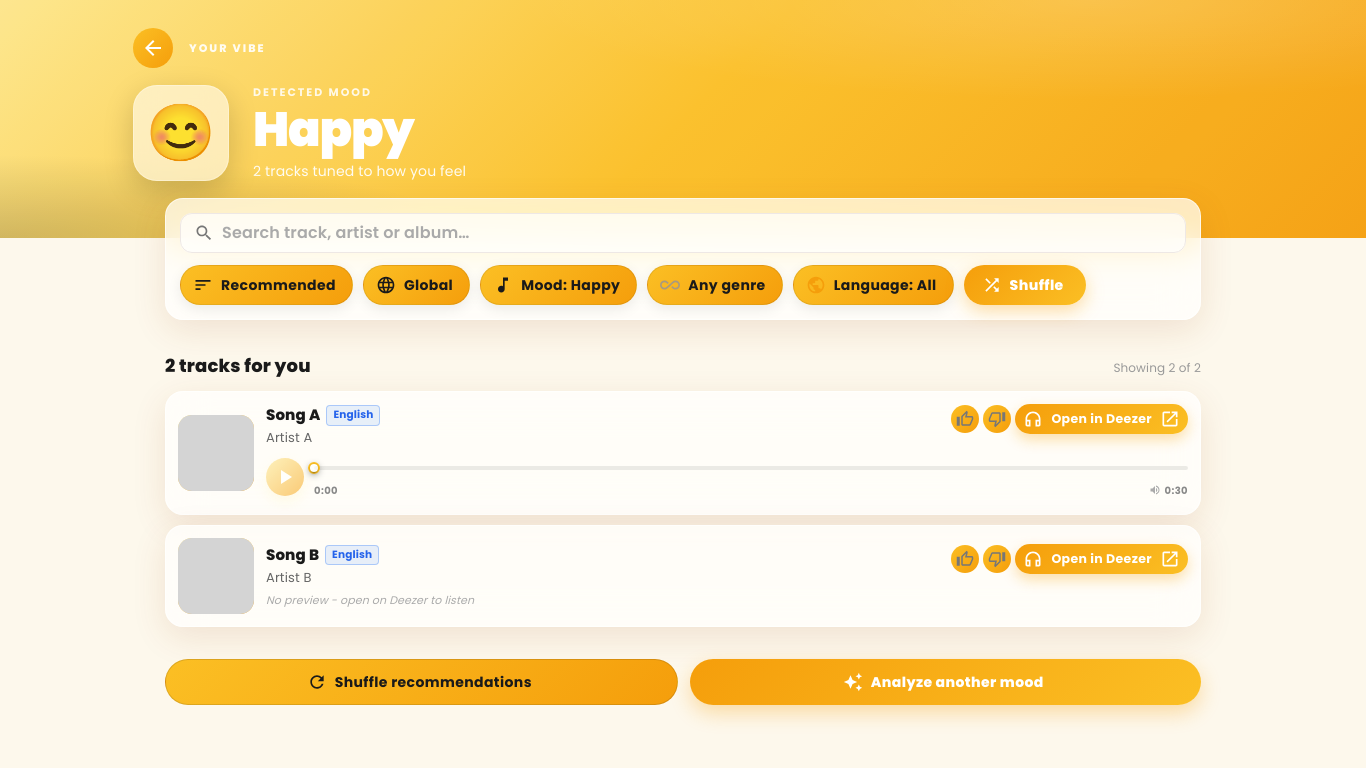
<ResultsPage /> › opens the market Menu and refetches when a region is picked
// The market pill defaults to "Global".
Step 1. Click the button "Global" → (417, 285), box [363, 265, 470, 305]
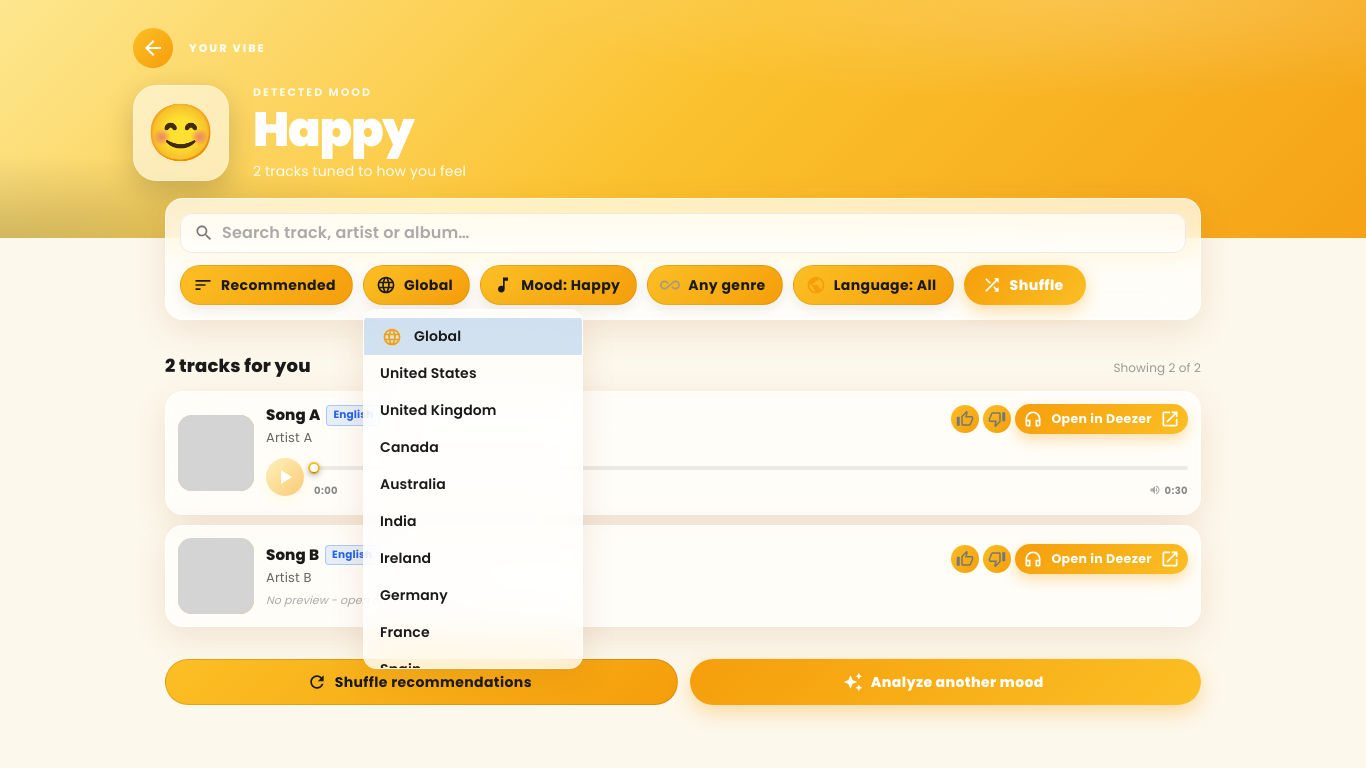
Step 2. Click the menu item "United States" → (428, 373), box [380, 363, 477, 383]
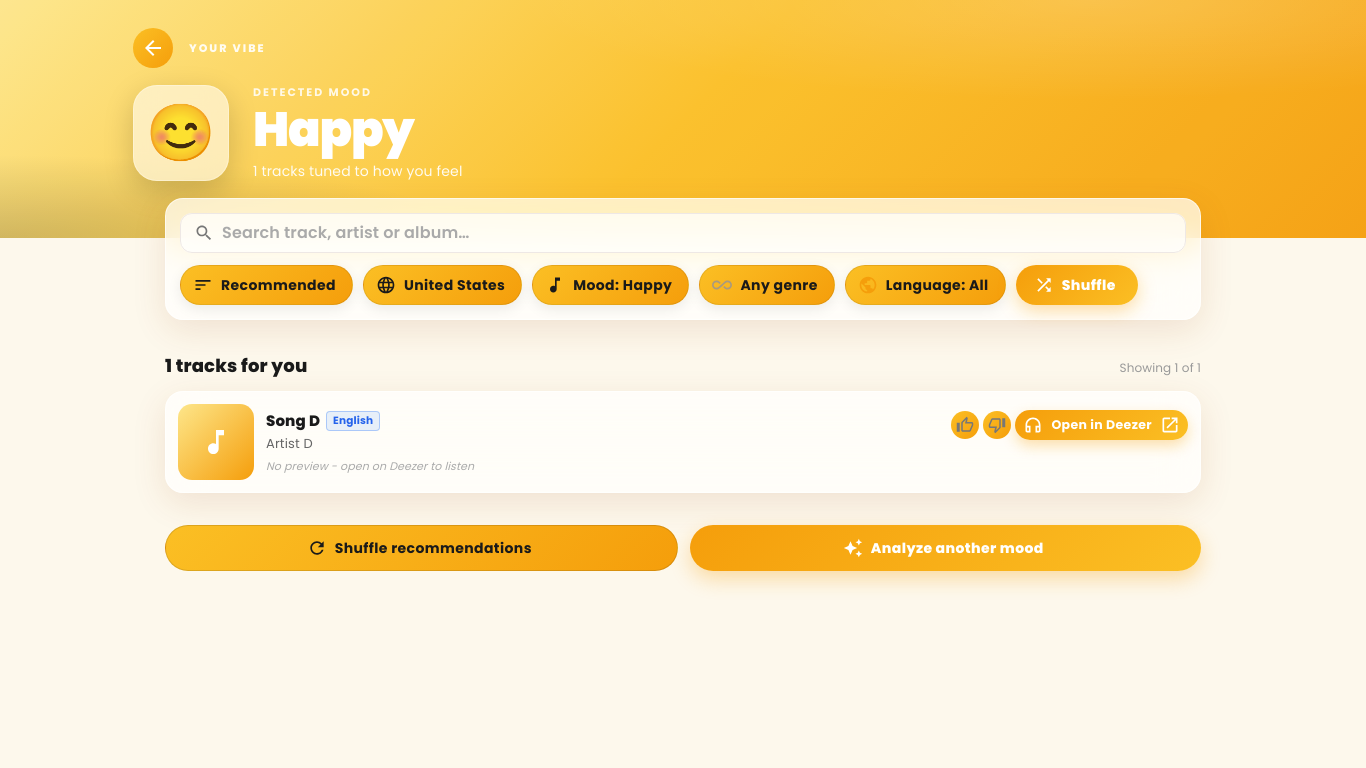
expect the text "Song D" is shown: met, box [266, 410, 320, 432]
expect the text "Artist D" is shown: met, box [266, 434, 313, 453]
